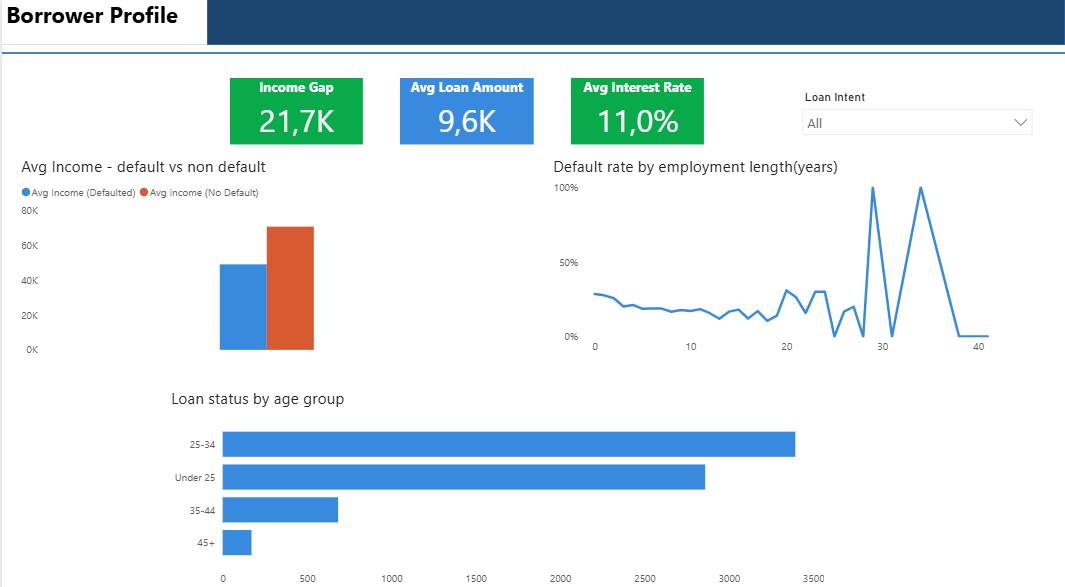

Layout of this report page (visuals, bound fields, positions):
{"tool":"powerbi","page":{"name":"Borrower Proile","canvas":[1280,720],"ordinal":2},"visuals":[{"type":"shape","box":[954.1,109.2,294,53.8],"z":0},{"type":"shape","box":[0,0,1280,80],"z":1000},{"type":"textbox","box":[0,0,246.9,80.6],"z":2000},{"type":"shape","box":[0,80.2,1280,19.6],"z":3000},{"type":"clusteredColumnChart","title":"Avg Income - default vs non default","fields":{"Y":["_Measures.Avg Income (Defaulted)","_Measures.Avg Income (No Default)"]},"box":[18.5,193.2,577.8,248.6],"z":4000},{"type":"lineChart","title":"Default rate by employment length(years)","fields":{"Y":["_Measures.Default Rate %"],"Category":["loans.Employment Length (yrs)"]},"box":[658.5,193.2,589.6,248.6],"z":5000},{"type":"barChart","title":"Loan status by age group","fields":{"Category":["loans.Age Group"],"Y":["Sum(loans.loan_status)"]},"box":[198.2,472,796.2,248.6],"z":6000},{"type":"card","title":"Income Gap","fields":{"Values":["_Measures.Income Gap"]},"box":[274.7,100,160,80],"z":7000},{"type":"slicer","fields":{"Values":["loans.Loan Intent"]},"box":[954.1,109.2,297.3,62.2],"z":8000},{"type":"card","title":"Avg Loan Amount","fields":{"Values":["_Measures.Avg Loan Amount"]},"box":[479.3,100,161.3,80],"z":8001},{"type":"card","title":"Avg Interest Rate","fields":{"Values":["_Measures.Avg Interest Rate"]},"box":[685.3,100,160,80],"z":8002}]}

Visuals, with their boxes in screenshot pixels (x1, y1, x2, y2), scaled from the page's 1280x720 canvas onto the 1065x587 screenshot:
shape: <bbox>794, 89, 1038, 133</bbox>
shape: <bbox>0, 0, 1064, 65</bbox>
textbox: <bbox>0, 0, 205, 66</bbox>
shape: <bbox>0, 65, 1064, 81</bbox>
"Avg Income - default vs non default" clusteredColumnChart: <bbox>15, 158, 496, 360</bbox>
"Default rate by employment length(years)" lineChart: <bbox>548, 158, 1038, 360</bbox>
"Loan status by age group" barChart: <bbox>165, 385, 827, 586</bbox>
"Income Gap" card: <bbox>229, 82, 362, 147</bbox>
slicer - loans.Loan Intent: <bbox>794, 89, 1041, 140</bbox>
"Avg Loan Amount" card: <bbox>399, 82, 533, 147</bbox>
"Avg Interest Rate" card: <bbox>570, 82, 703, 147</bbox>
